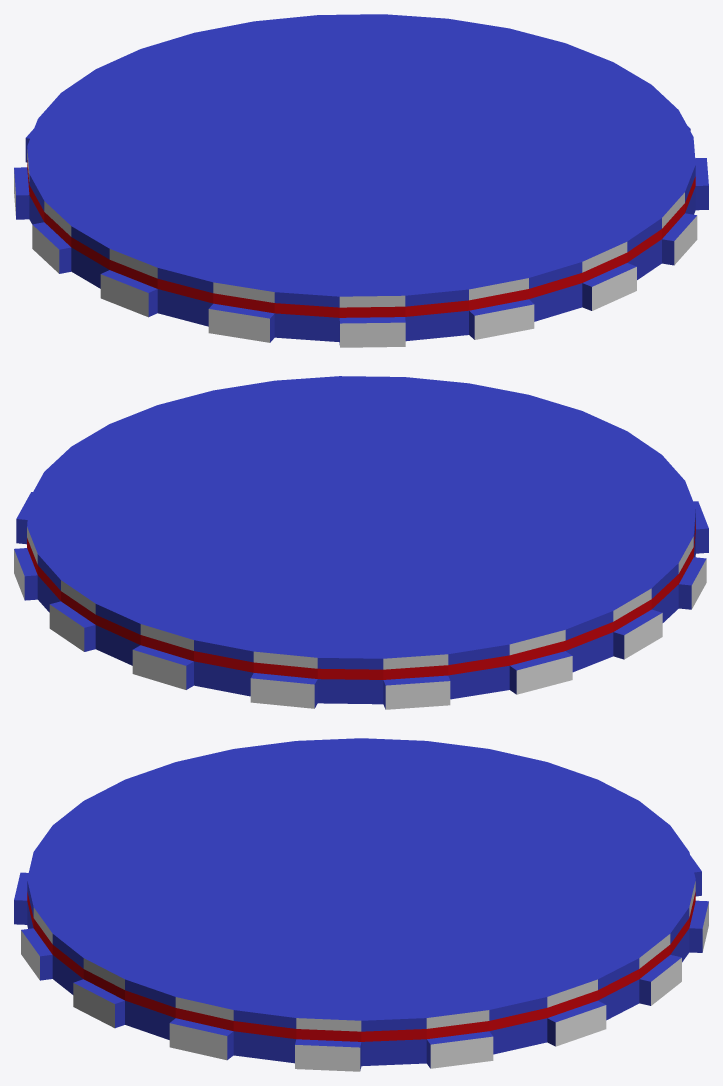
File: CarStandVer9.fbx
3 renders of one model, top to bottom at view 1: azimuth 30°, elevation 25°; view 2: azimuth 150°, elevation 25°; view 3: azimuth 270°, elevation 25°, orthographic.
Parts seen in each view (by area): view 1: Top, Cylinder.001, LightDown, RedLight, ShieldLightsDown, LightsUp, Cylinder; view 2: Top, Cylinder.001, LightDown, RedLight, ShieldLightsDown, LightsUp, Cylinder; view 3: Top, Cylinder.001, LightDown, RedLight, ShieldLightsDown, LightsUp, Cylinder.
Part boxes in pixels (bbox=[...]): Top: bbox=[27, 14, 695, 307]; Cylinder.001: bbox=[28, 14, 695, 342]; LightDown: bbox=[14, 170, 697, 347]; RedLight: bbox=[27, 160, 695, 317]; ShieldLightsDown: bbox=[14, 126, 708, 344]; LightsUp: bbox=[27, 149, 684, 307]; Cylinder: bbox=[27, 154, 684, 307]; Top: bbox=[27, 376, 695, 669]; Cylinder.001: bbox=[28, 376, 695, 704]; LightDown: bbox=[14, 549, 706, 709]; RedLight: bbox=[27, 520, 695, 679]; ShieldLightsDown: bbox=[14, 492, 708, 709]; LightsUp: bbox=[27, 527, 693, 669]; Cylinder: bbox=[27, 530, 693, 668]; Top: bbox=[27, 738, 695, 1031]; Cylinder.001: bbox=[27, 738, 695, 1066]; LightDown: bbox=[21, 902, 708, 1071]; RedLight: bbox=[27, 892, 695, 1041]; ShieldLightsDown: bbox=[14, 855, 708, 1070]; LightsUp: bbox=[33, 881, 695, 1031]; Cylinder: bbox=[35, 883, 695, 1030].
Bounding box in the file's own units: 1010 × 72.84 × 1010.
